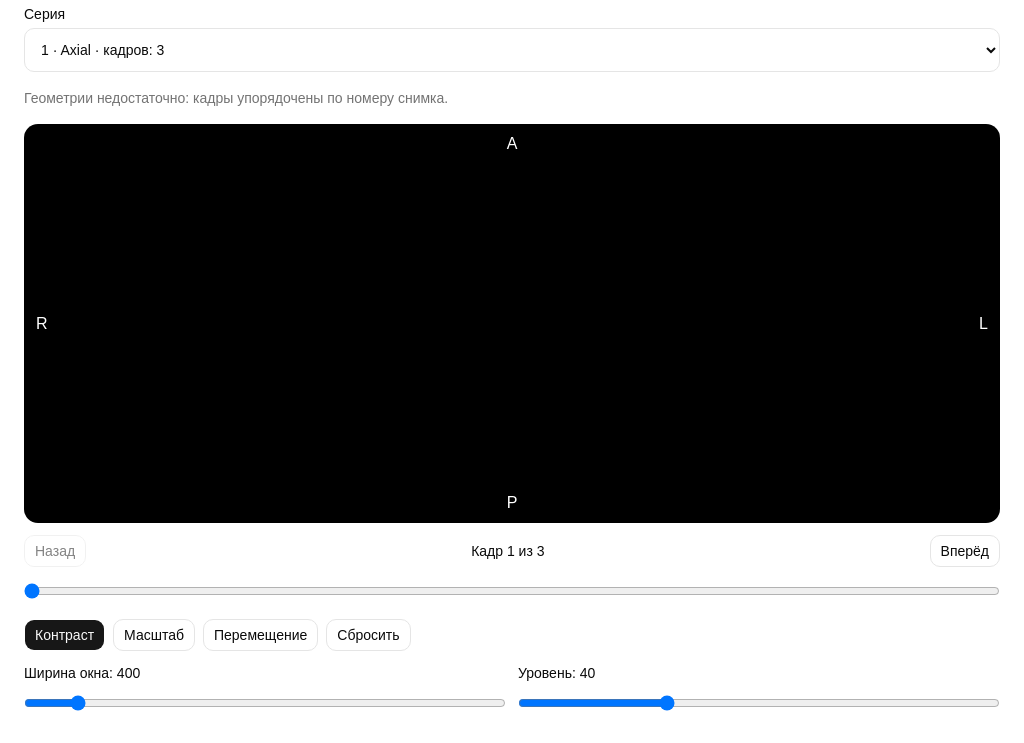
it: applies window, zoom and reset without another pixel request
(page scrolled)
Expected: the text "Ширина окна: 400" is shown, [24,663,506,719]
Set the slider labelled "Ширина окна" to "800" at (125, 703), box [24,687,506,719]
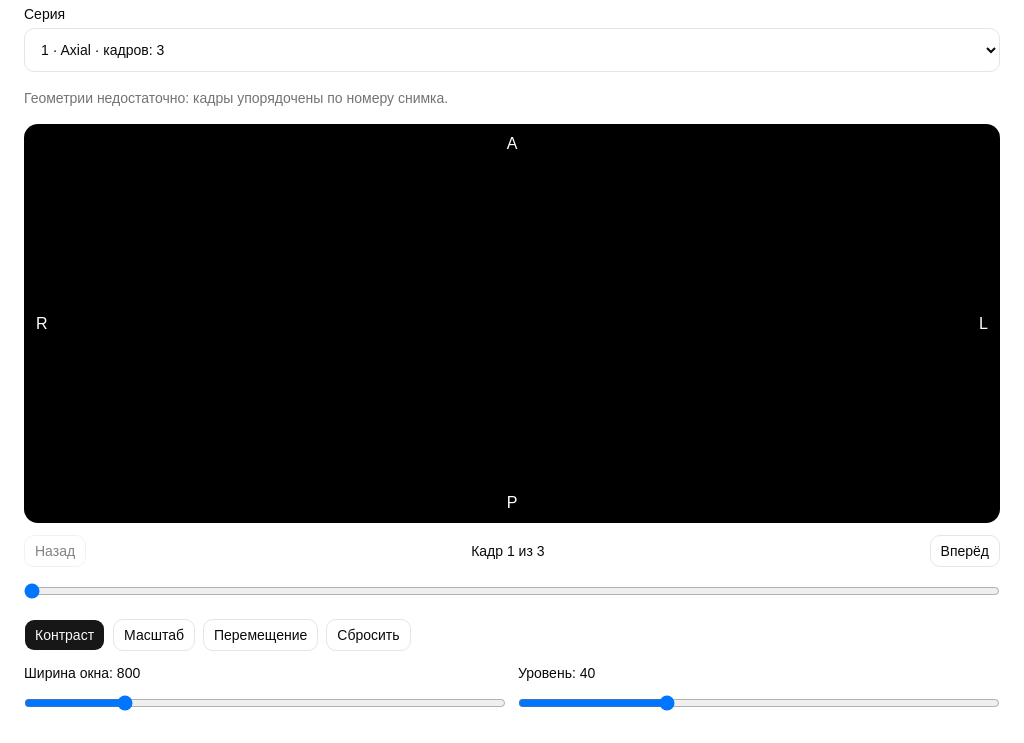
Click the button "Масштаб".
click(154, 635)  # box [113,619,195,651]
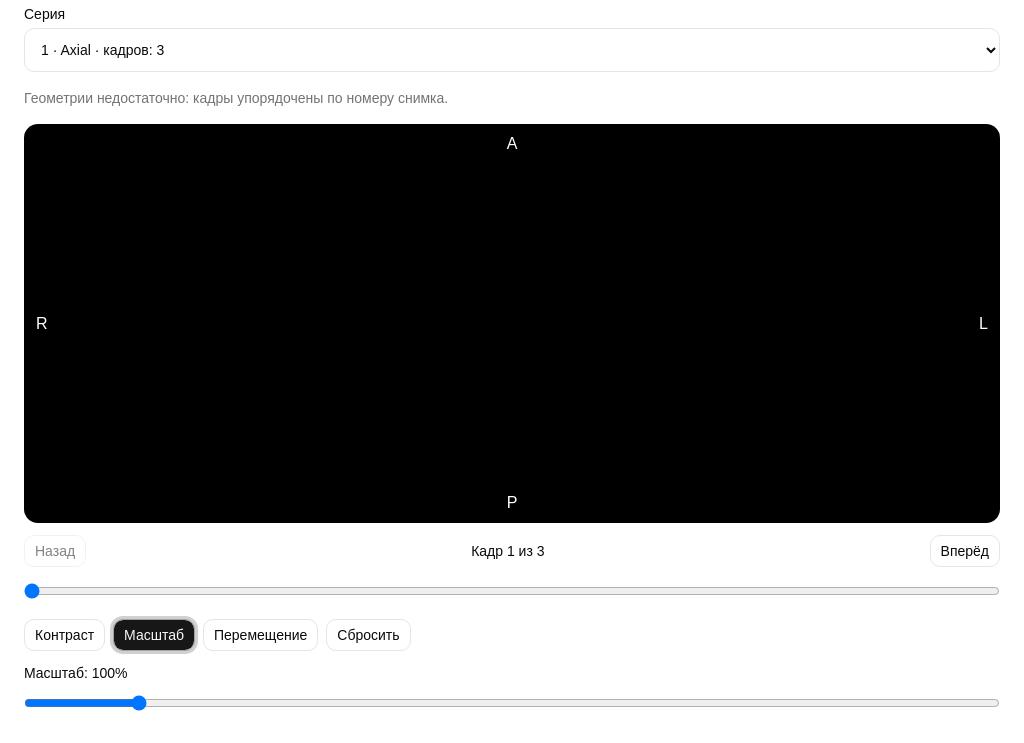
Set the slider labelled "Масштаб" to "2" at (352, 703), box [24,687,1000,719]
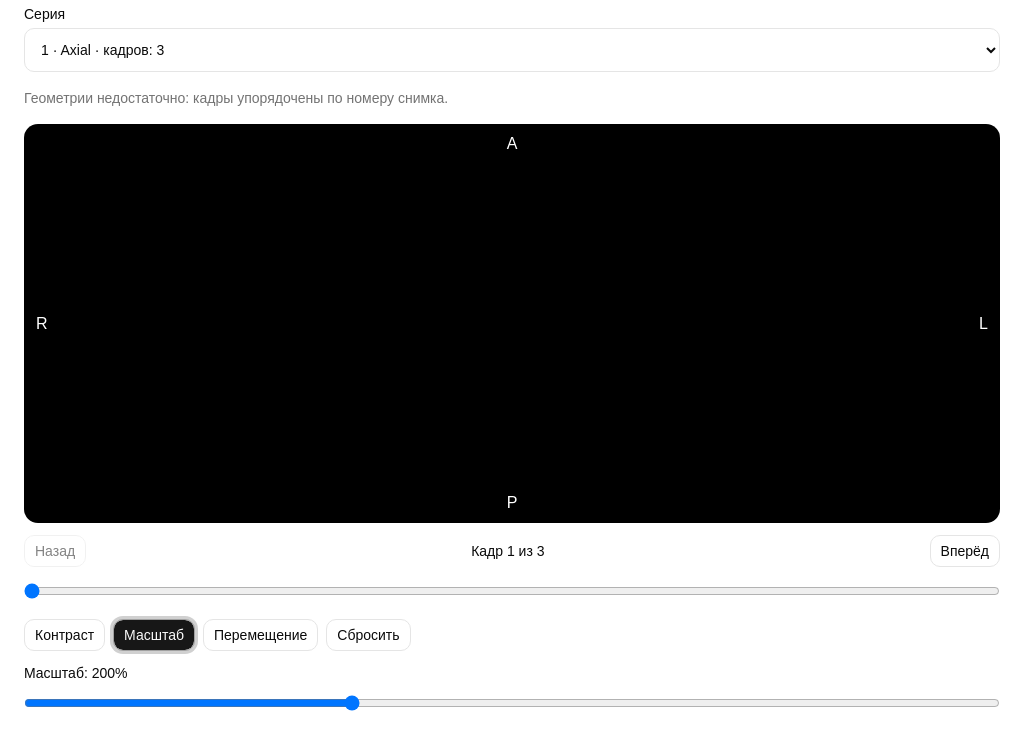
Click the button "Сбросить".
click(368, 635)  # box [326,619,410,651]
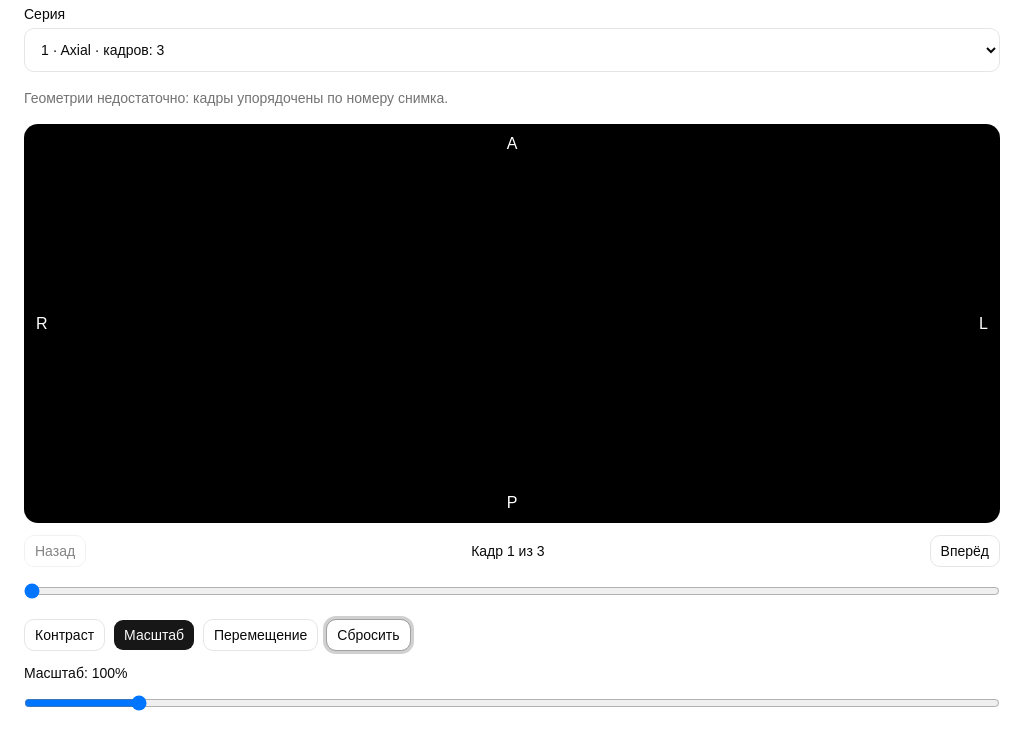
Click the button "Перемещение".
click(261, 635)  # box [203,619,318,651]
(page scrolled)
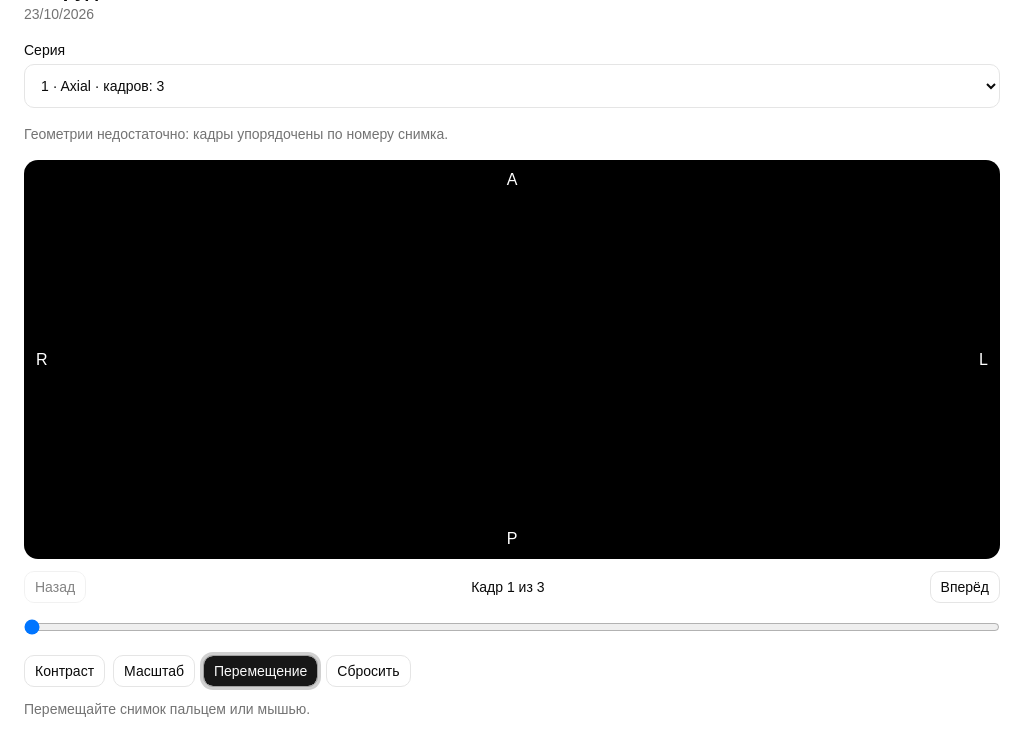
Result: the text "Перемещайте снимок пальцем или мышью." is shown at [24,701,310,717]
